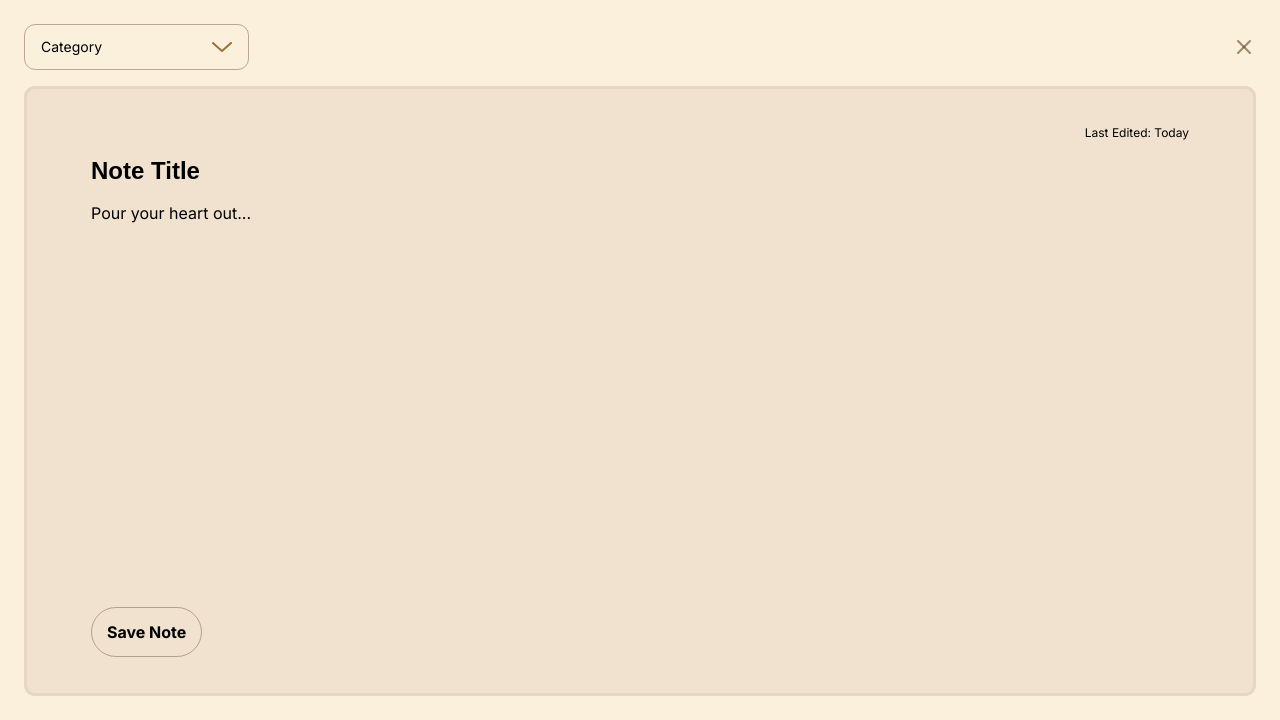
Test case: NoteModal › shows API field error on title
Click the button "Category". click: (136, 47)
box: x1=24 y1=24 x2=249 y2=70
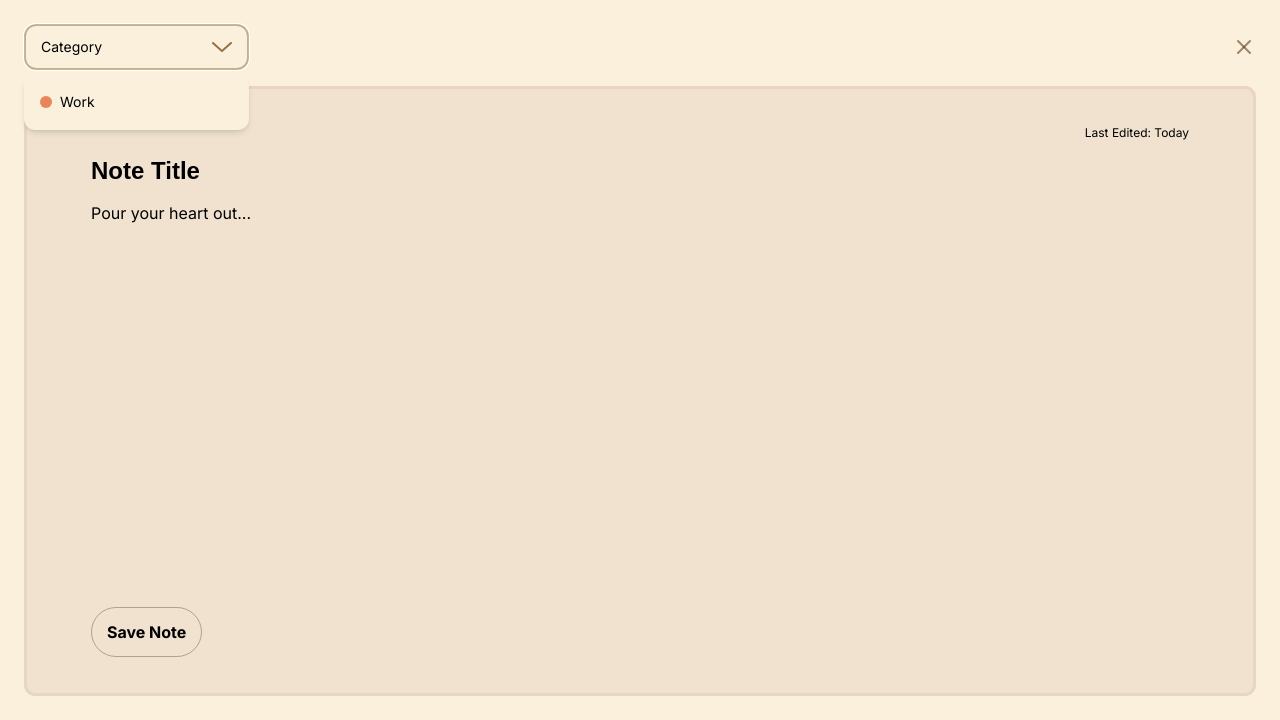
Result: the text "Work" is shown at x1=60 y1=92 x2=95 y2=112
Click the button "Work". click: (136, 102)
box: x1=24 y1=82 x2=249 y2=122
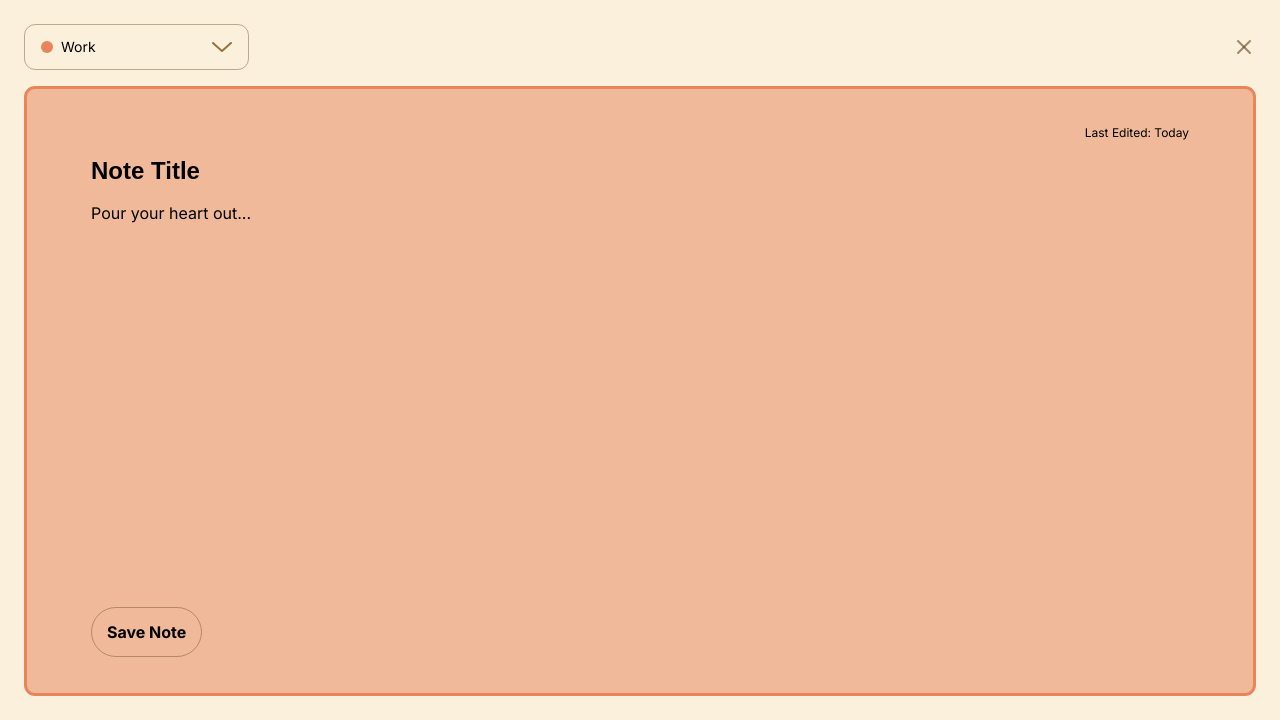
Type "x" into the field with placeholder "Note Title". click: (640, 171)
box: x1=91 y1=157 x2=1189 y2=185
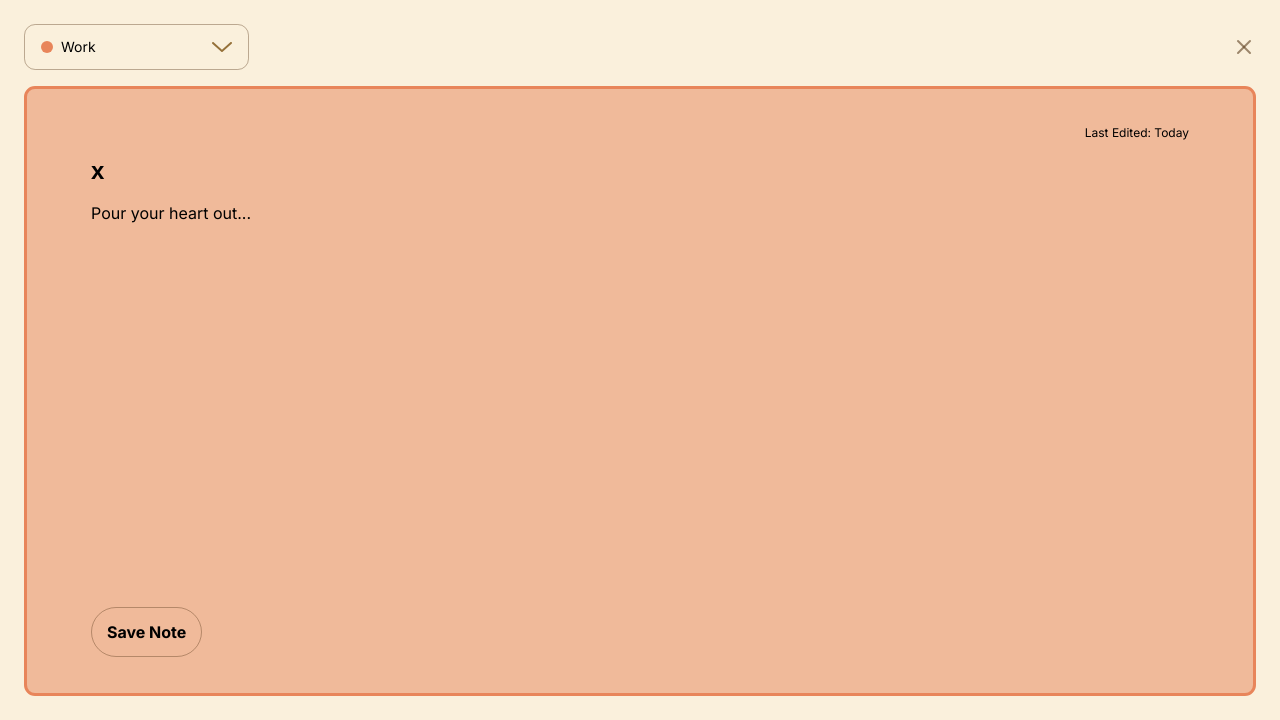
Click the button "Save Note". click: (147, 632)
box: x1=91 y1=607 x2=202 y2=657
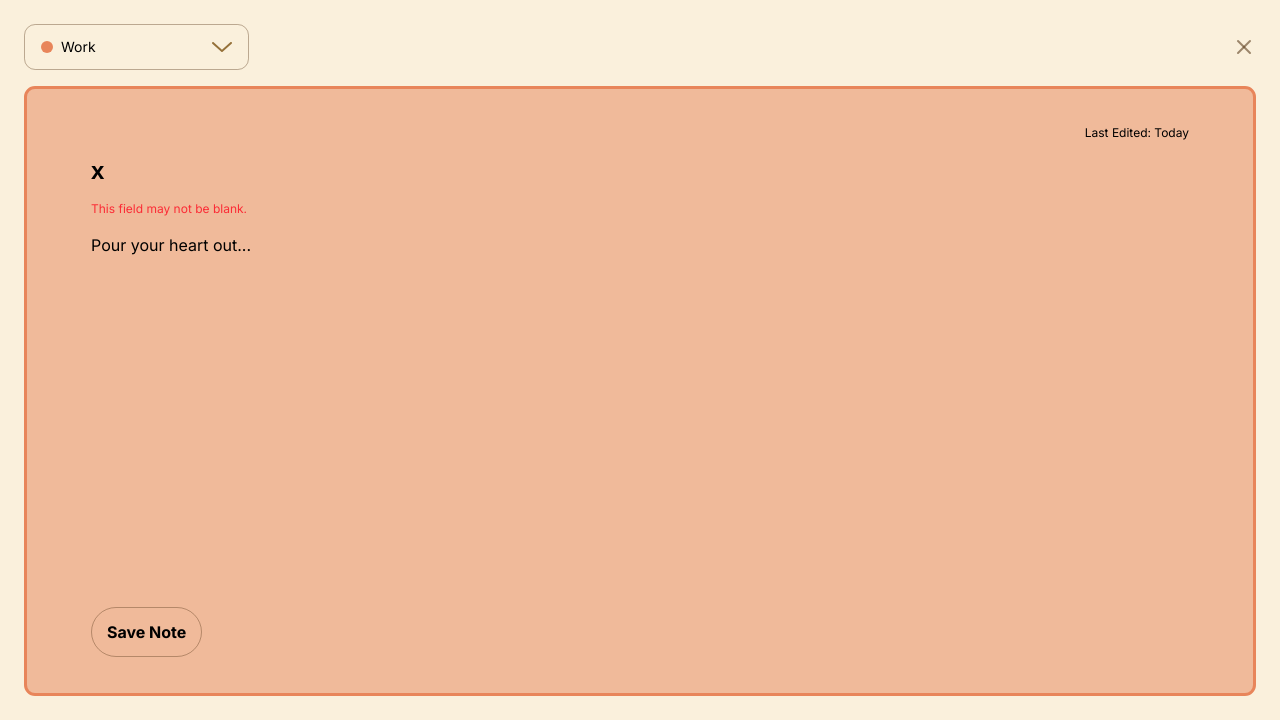
Result: the text "This field may not be blank." is shown at x1=91 y1=201 x2=247 y2=216
